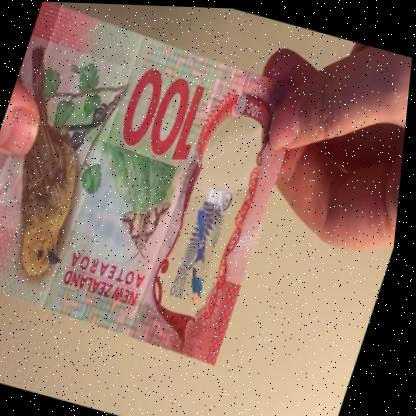100B: (169, 130, 257, 310)
